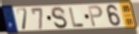6: (106, 4, 122, 28)
7: (30, 7, 45, 30), (16, 8, 28, 31)
L: (68, 7, 86, 28)
P: (87, 4, 104, 28)
S: (50, 6, 69, 30)
